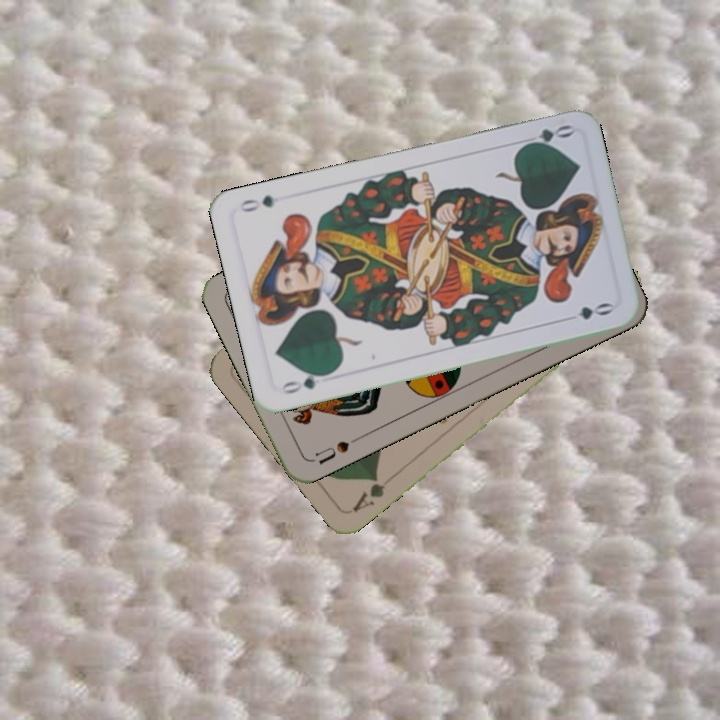GA: (348, 472, 388, 515)
GO: (516, 120, 575, 151), (276, 368, 334, 397)
SU: (307, 432, 363, 467)
